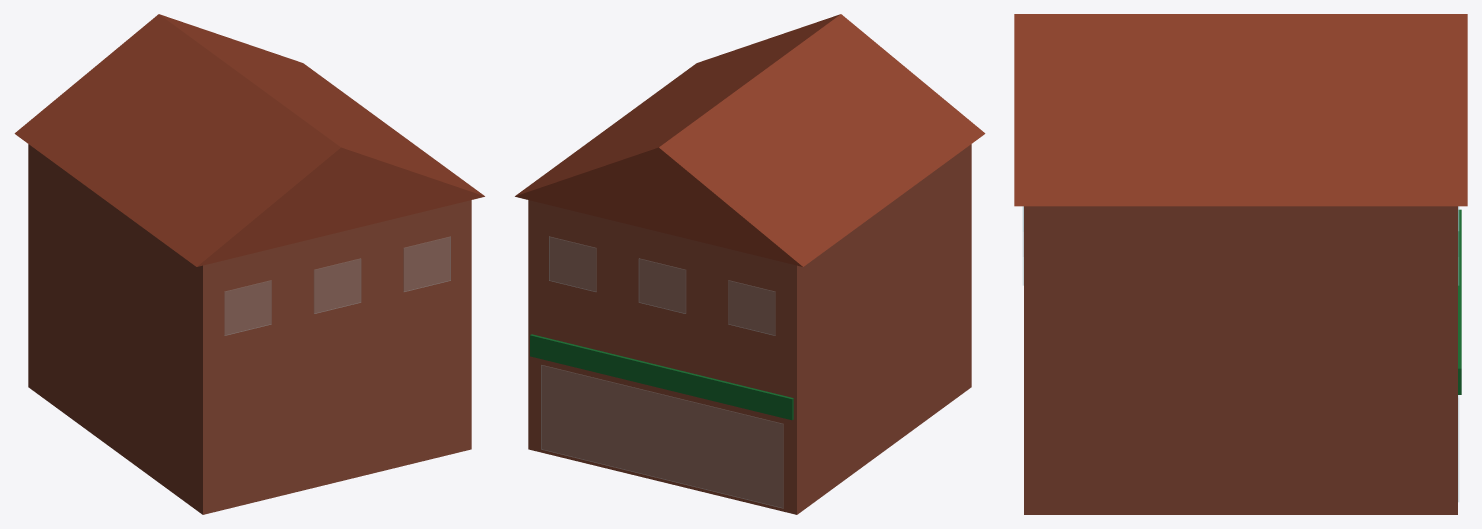
Rendered from context.corner_shop.glb.
3 views of the same model, side by side, from view 1: azimuth 30°, elevation 25°; view 2: azimuth 150°, elevation 25°; view 3: azimuth 270°, elevation 25° (orthographic). The views are drawn at different scales.
Visible parts, largest first — view 1: walls__brick, roof__clay_tile, openings__glass; view 2: walls__brick, roof__clay_tile, openings__glass, openings__plastic_green; view 3: walls__brick, roof__clay_tile, openings__plastic_green.
Part boxes in pixels (x1=…): walls__brick: x1=28, y1=144, x2=471, y2=514; roof__clay_tile: x1=14, y1=14, x2=484, y2=266; openings__glass: x1=224, y1=236, x2=450, y2=335; walls__brick: x1=528, y1=144, x2=971, y2=514; roof__clay_tile: x1=515, y1=14, x2=985, y2=266; openings__glass: x1=541, y1=236, x2=783, y2=508; openings__plastic_green: x1=530, y1=334, x2=793, y2=420; walls__brick: x1=1024, y1=206, x2=1457, y2=514; roof__clay_tile: x1=1014, y1=14, x2=1467, y2=206; openings__plastic_green: x1=1458, y1=209, x2=1461, y2=394.
Size of the model in its own units: 8.6 by 9.6 by 9.4.
